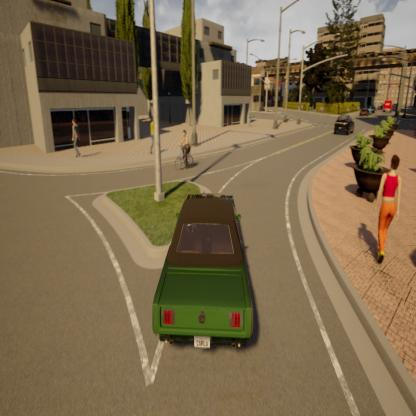Cars: (142, 189, 259, 361), (331, 115, 356, 136), (360, 105, 370, 116)
Pedestrian: (365, 156, 409, 270), (68, 116, 84, 161), (143, 114, 160, 155)
